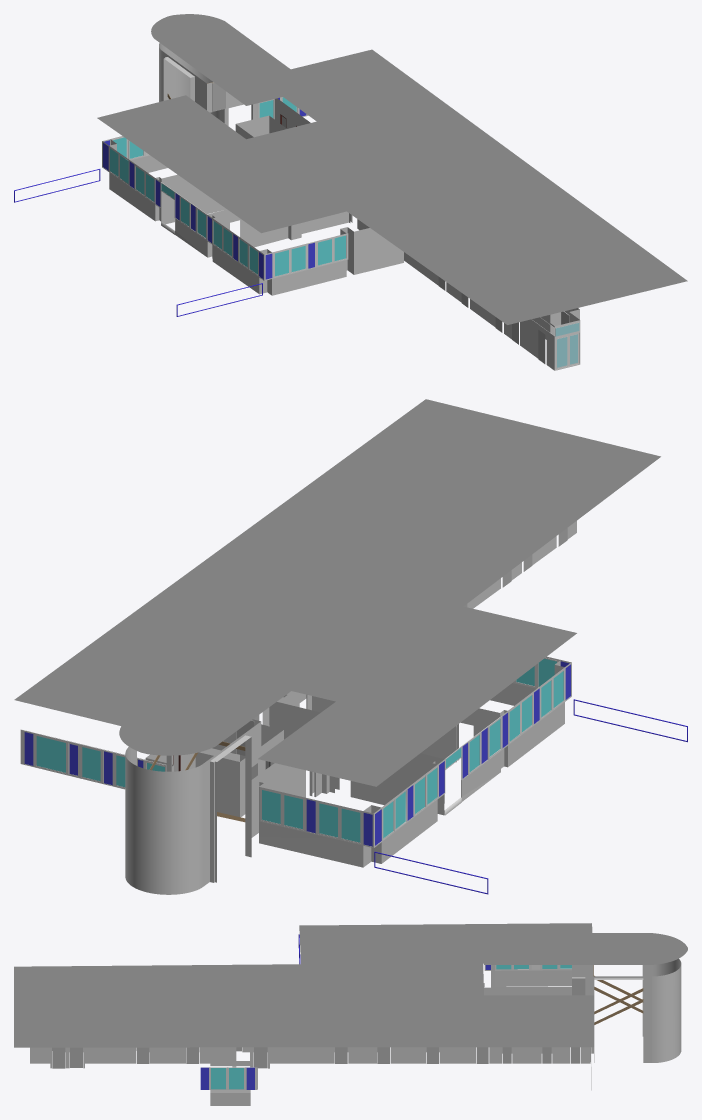
3 renders of one model, top to bottom at view 1: azimuth 30°, elevation 25°; view 2: azimuth 150°, elevation 25°; view 3: azimuth 270°, elevation 25°, orthographic. The views are drawn at different scales.
Visible parts, largest first — view 1: stena039.101, stena039.341, stena039.325, stena039.542, stena039.340, stena039.136, stena039.047, stena039.543, stena039.338, stena039.135, stena039.426, stena039.352 (+3 smaller); view 2: stena039.101, stena039.325, stena039.338, stena039.036, stena039.160, stena039.136, stena039.340, stena039.143, stena039.047, stena039.543, stena039.341, stena039.352 (+2 smaller); view 3: stena039.101, stena039.135, stena039.325, stena039.338, stena039.555, stena039.053, stena039.331, stena039.136, stena039.549, stena039.323, stena039.447, stena039.047.
Part boxes in pixels (<box>): stena039.101: <box>97,14,687,324</box>; stena039.341: <box>212,211,403,295</box>; stena039.325: <box>159,43,243,125</box>; stena039.542: <box>264,233,348,280</box>; stena039.340: <box>161,177,242,257</box>; stena039.136: <box>350,214,554,370</box>; stena039.047: <box>102,141,160,207</box>; stena039.543: <box>207,214,264,280</box>; stena039.338: <box>109,139,180,221</box>; stena039.135: <box>251,98,579,339</box>; stena039.426: <box>554,320,580,370</box>; stena039.352: <box>160,182,206,240</box>; stena039.101: <box>14,399,660,786</box>; stena039.325: <box>125,719,261,894</box>; stena039.338: <box>259,756,437,867</box>; stena039.036: <box>259,787,373,847</box>; stena039.160: <box>20,729,166,789</box>; stena039.136: <box>251,521,576,837</box>; stena039.340: <box>278,691,500,815</box>; stena039.143: <box>195,723,283,817</box>; stena039.047: <box>373,759,445,847</box>; stena039.543: <box>501,662,571,749</box>; stena039.341: <box>457,660,564,768</box>; stena039.352: <box>445,716,501,780</box>; stena039.101: <box>14,923,687,1047</box>; stena039.135: <box>30,1047,593,1068</box>; stena039.325: <box>572,958,681,1062</box>; stena039.338: <box>491,965,571,987</box>; stena039.555: <box>52,1047,267,1068</box>; stena039.053: <box>200,1067,257,1089</box>; stena039.331: <box>210,1047,250,1105</box>; stena039.136: <box>65,987,571,1052</box>; stena039.549: <box>335,1047,488,1063</box>; stena039.323: <box>593,965,643,1024</box>; stena039.447: <box>502,1047,580,1063</box>; stena039.047: <box>484,965,571,970</box>.
Size of the model in its own units: 2488 by 722 by 4378.
